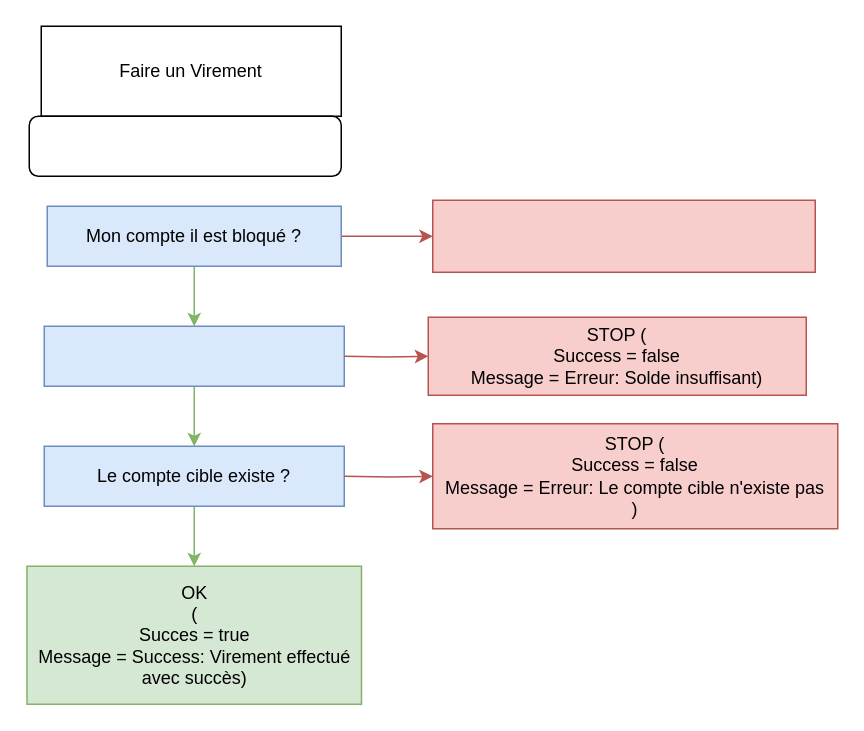
This 864x731 diagram has some shape labels left out. Each missing label, with the centre of its shape:
"amount (le montant du virement)" goes at [184,145].
"Le solde du compte est suffisant ?" goes at [193,355].
"STOP ( Success = false Message = Erreur: Compte bloqué)" goes at [623,235].
